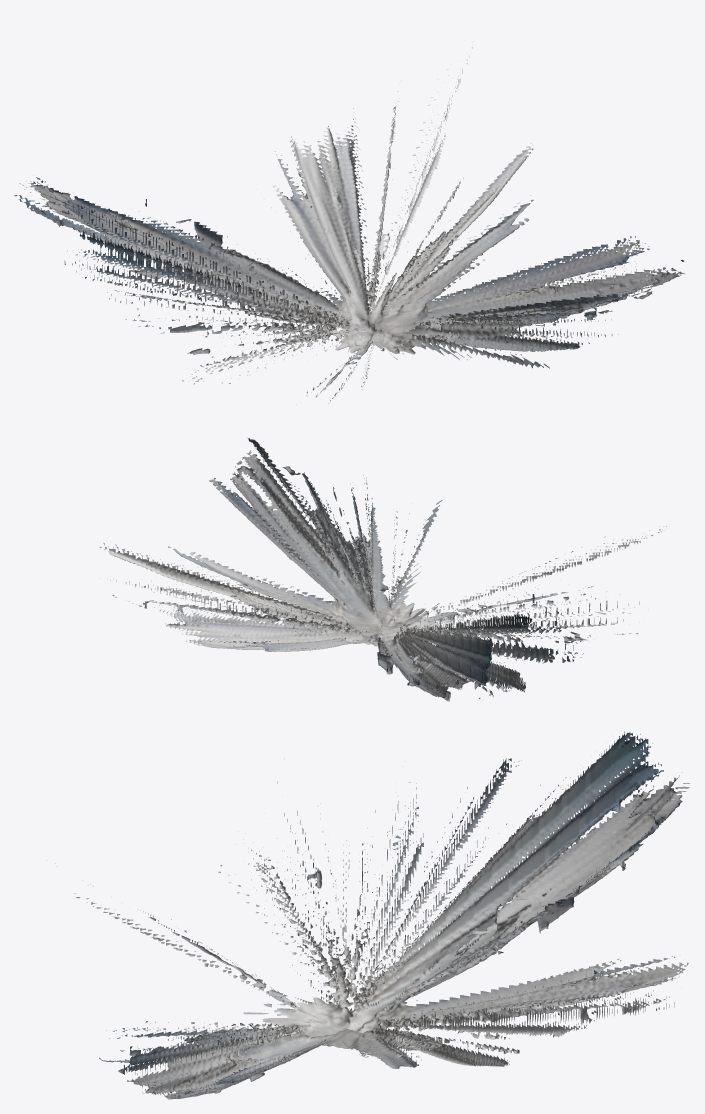
Rendered from grecian_city_collider.glb.
The picture shows the model from 3 angles, top to bottom: view 1: azimuth 30°, elevation 25°; view 2: azimuth 150°, elevation 25°; view 3: azimuth 270°, elevation 25°; orthographic projection. The views are drawn at different scales.
Parts seen in each view (by area): view 1: world; view 2: world; view 3: world.
Boxes of the visible parts, bbox=[...] form: world: bbox=[14, 41, 684, 403]; world: bbox=[99, 438, 666, 701]; world: bbox=[55, 731, 689, 1099].
Size of the model in its own units: 767 by 264 by 763.
